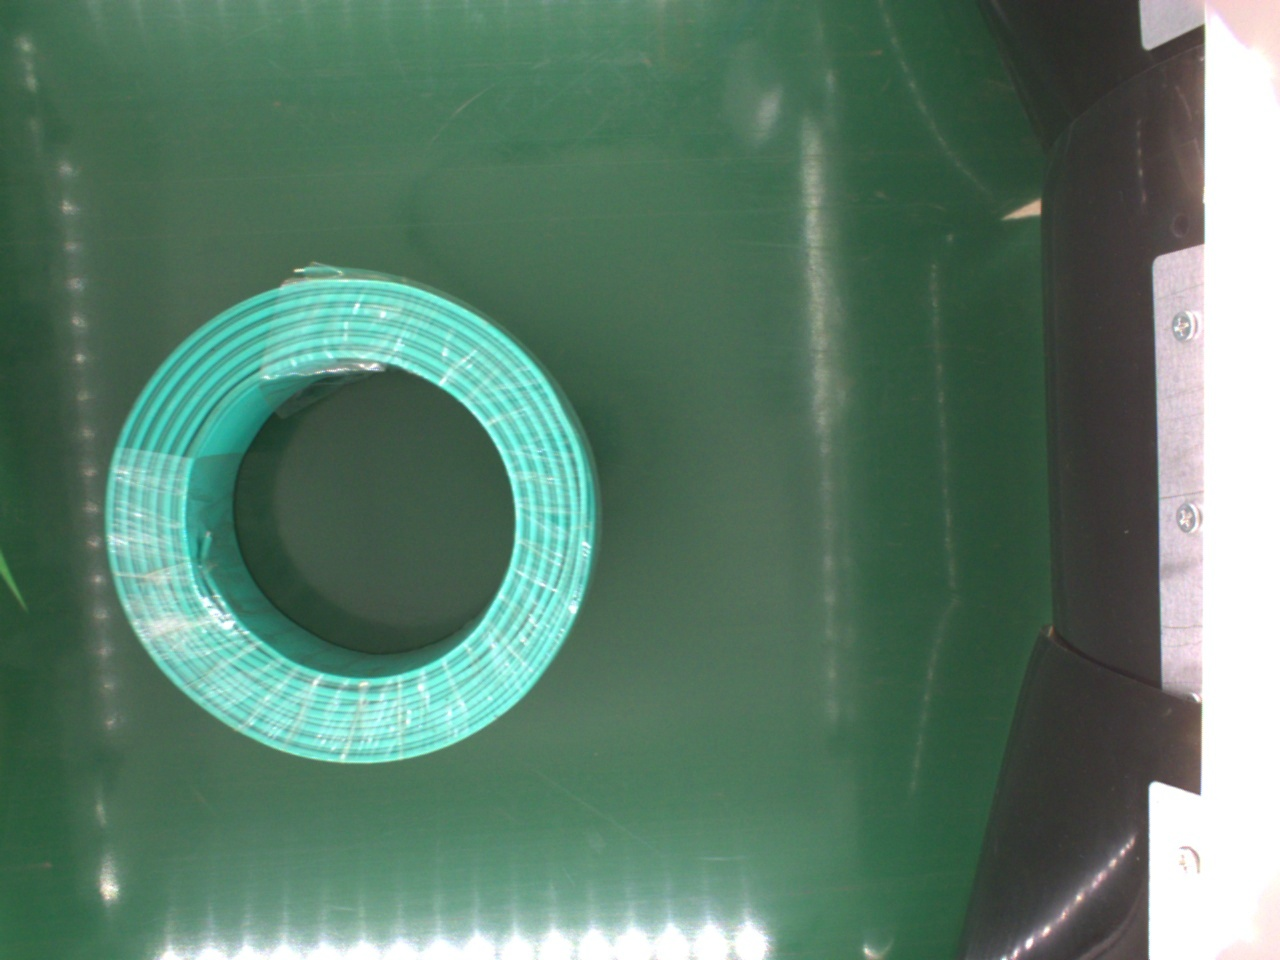green: (108, 263, 597, 764)
